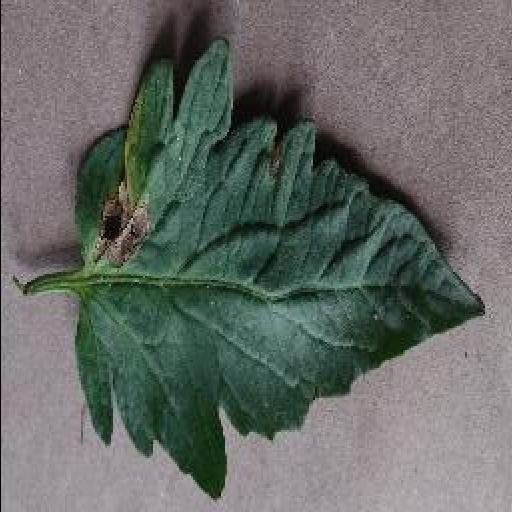disease_tomato: (70, 36, 484, 500)
